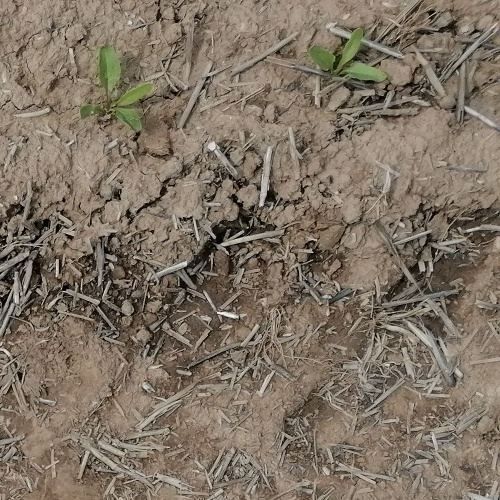beet: (79, 44, 156, 132), (307, 26, 388, 87)
